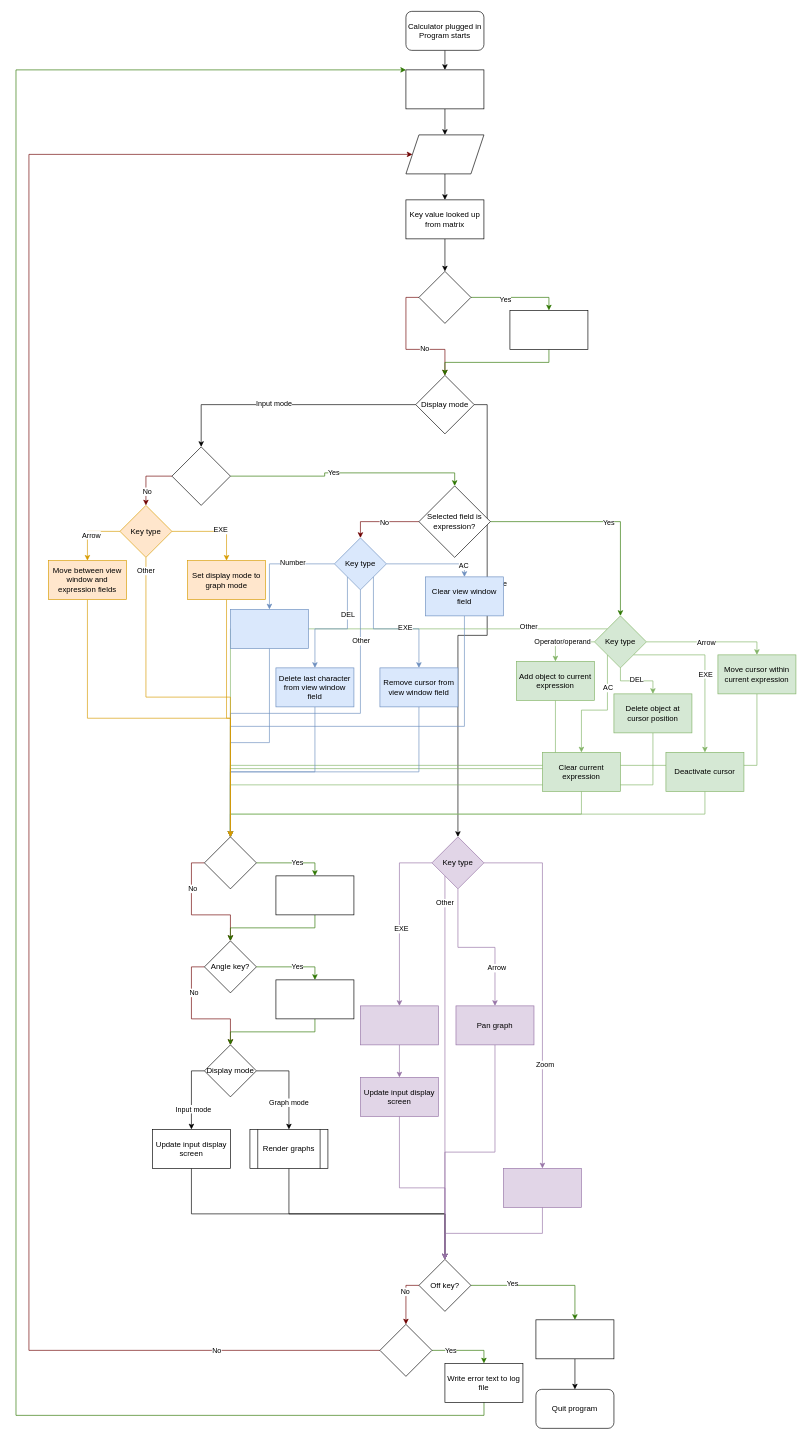
Some shapes in this 807 by 1440 pixel diagram are drawn without their labels. The centre of each missing label's shape, as x and y in pixels:
Add number to view window field: point 269,628
Button pressed: point 444,154
Cursor active?: point 200,475
Error occurred?: point 405,1350
Key value augmented for shift mode: point 548,329
Set display mode to input mode: point 399,1025
Shift key?: point 230,862
Shift mode active?: point 444,297
Shut down computer: point 574,1339
Toggle angle mode: point 314,999
Toggle shift mode: point 314,895
Variables initialised, screen set up: point 444,89
Zoom graph: point 542,1187
